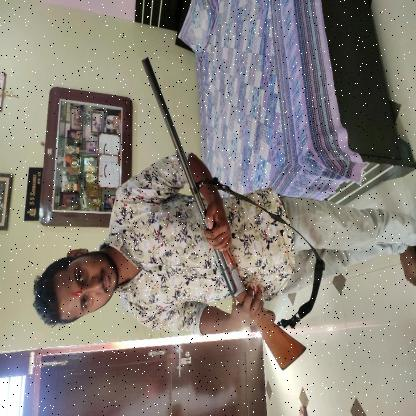rifle: (140, 53, 308, 374)
